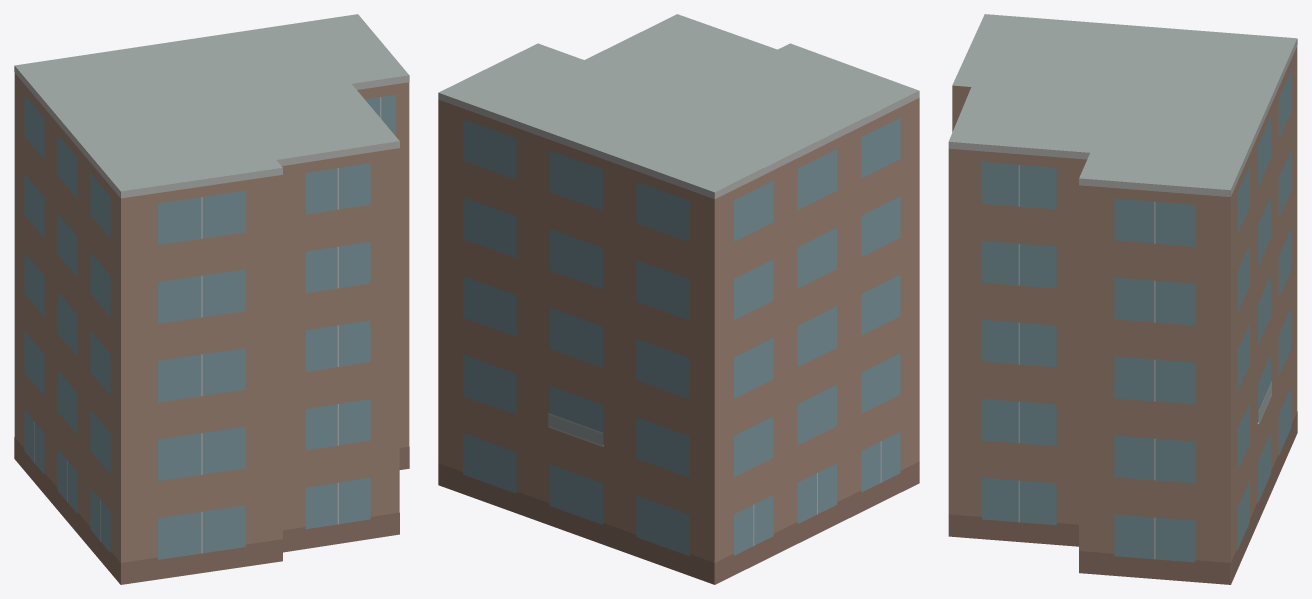
The model's file is survey-upis-32976440.glb.
3 views of the same model, side by side, from view 1: azimuth 30°, elevation 25°; view 2: azimuth 150°, elevation 25°; view 3: azimuth 270°, elevation 25° (orthographic).
Visible parts, largest first — view 1: survey-upis-32976440.tmp; view 2: survey-upis-32976440.tmp; view 3: survey-upis-32976440.tmp.
Part boxes in pixels (box(x1,y1,x2,y2)): survey-upis-32976440.tmp: box(14, 14, 409, 584); survey-upis-32976440.tmp: box(438, 14, 919, 584); survey-upis-32976440.tmp: box(948, 14, 1297, 584).
Bounding box in the file's own units: 13.32 × 13.9 × 11.15.
